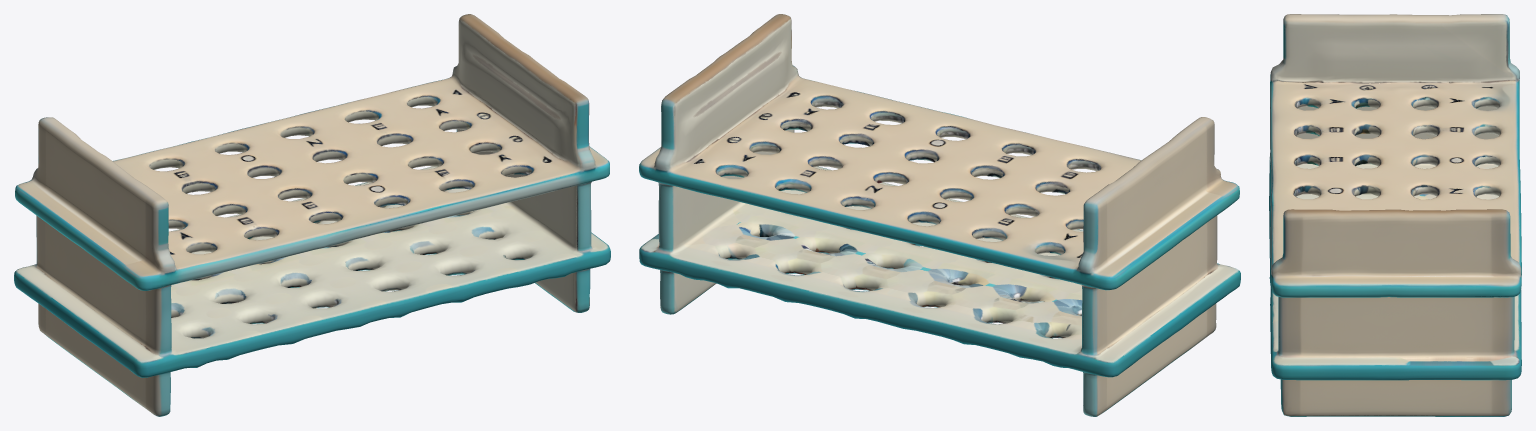
File: base_basic_pbr.fbx
The picture shows the model from 3 angles, left to right: view 1: azimuth 30°, elevation 25°; view 2: azimuth 150°, elevation 25°; view 3: azimuth 270°, elevation 25°; orthographic projection. The views are drawn at different scales.
Parts seen in each view (by area): view 1: model; view 2: model; view 3: model.
Part boxes in pixels (x1=…): model: x1=14, y1=14, x2=610, y2=416; model: x1=639, y1=14, x2=1240, y2=416; model: x1=1269, y1=14, x2=1521, y2=416.
Size of the model in its own units: 191 by 82.05 by 92.11.
Materials: 1 (1 with a texture image).
